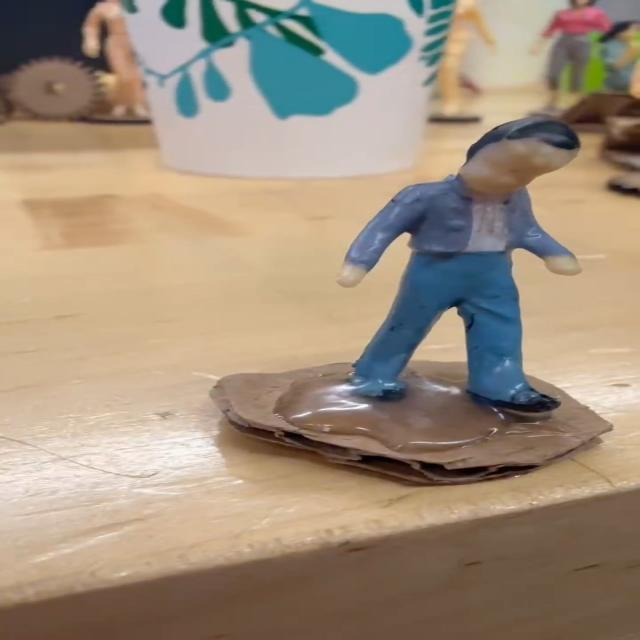Authorized: (220, 72, 579, 440)
